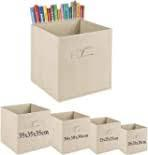cube: (30, 20, 114, 101), (1, 104, 53, 155), (53, 110, 92, 155), (92, 117, 122, 153)
